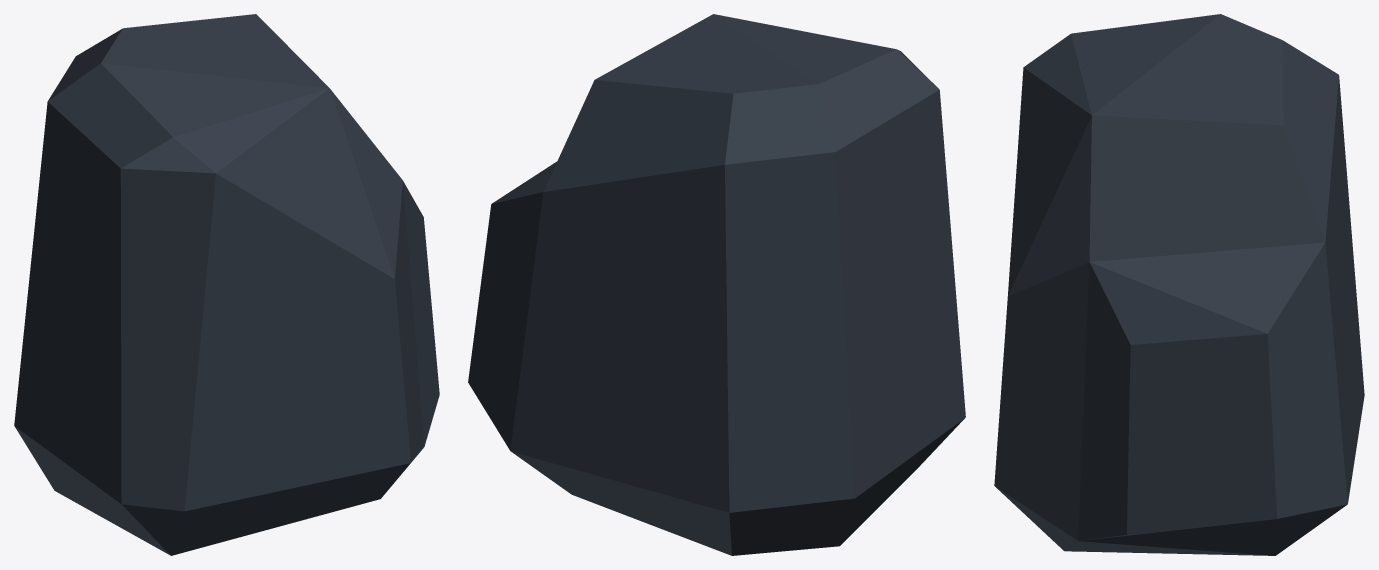
File: TB_Env_Rock1_A.FBX
3 renders of one model, left to right at view 1: azimuth 30°, elevation 25°; view 2: azimuth 150°, elevation 25°; view 3: azimuth 270°, elevation 25°, orthographic. The views are drawn at different scales.
Parts seen in each view (by area): view 1: TB_Env_Rock1_A; view 2: TB_Env_Rock1_A; view 3: TB_Env_Rock1_A.
Boxes of the visible parts, x1,y1,x2,y2 form: TB_Env_Rock1_A: (14,14,439,555); TB_Env_Rock1_A: (468,14,965,555); TB_Env_Rock1_A: (994,14,1364,555).
Bounding box in the file's own units: 2.42 × 2.67 × 2.05.
